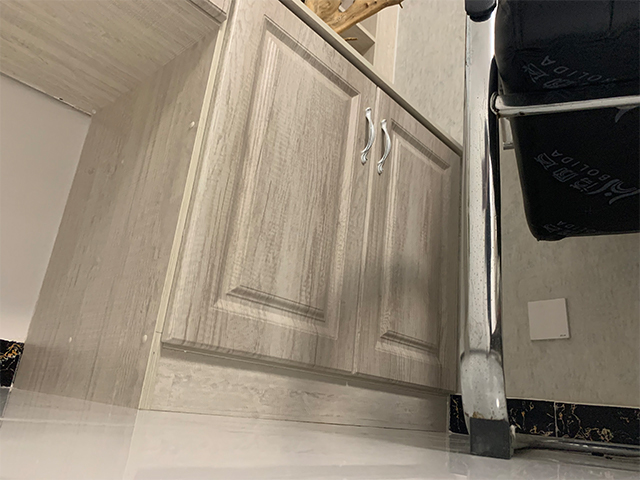cabinet: (1, 1, 464, 420)
stool: (465, 1, 640, 460)
